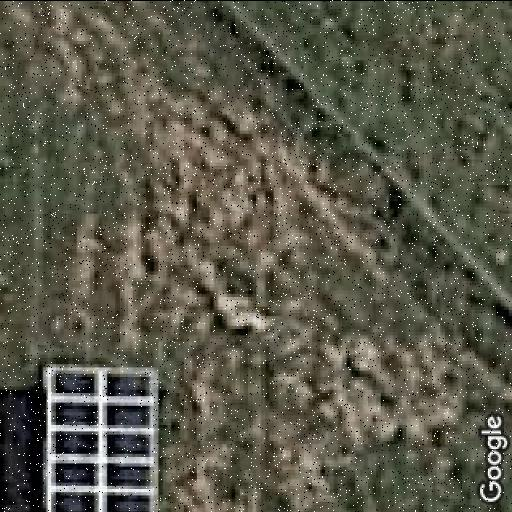solar-panel: (40, 362, 161, 512)
